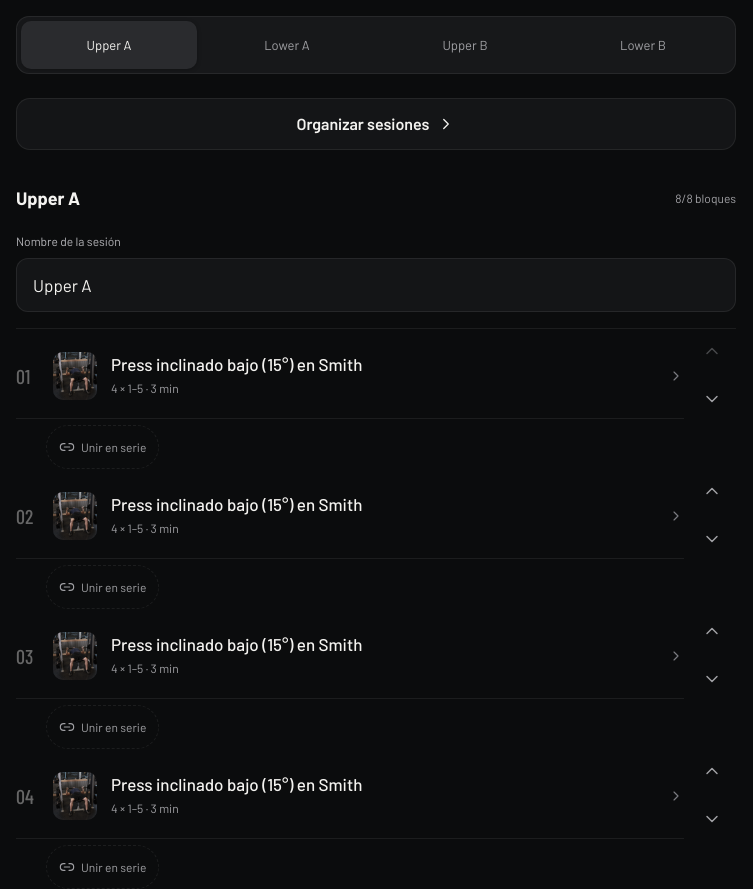
bi-series y tri-series › el contador cuenta bloques y ejercicios; «Añadir» se bloquea a 8 bloques
Expected: the text "8/8 bloques" is shown, top-left (675, 191), bottom-right (736, 205)
Click the 1st button "Unir en serie" at (103, 447), box top-left (46, 425), bottom-right (159, 469)
(page scrolled)
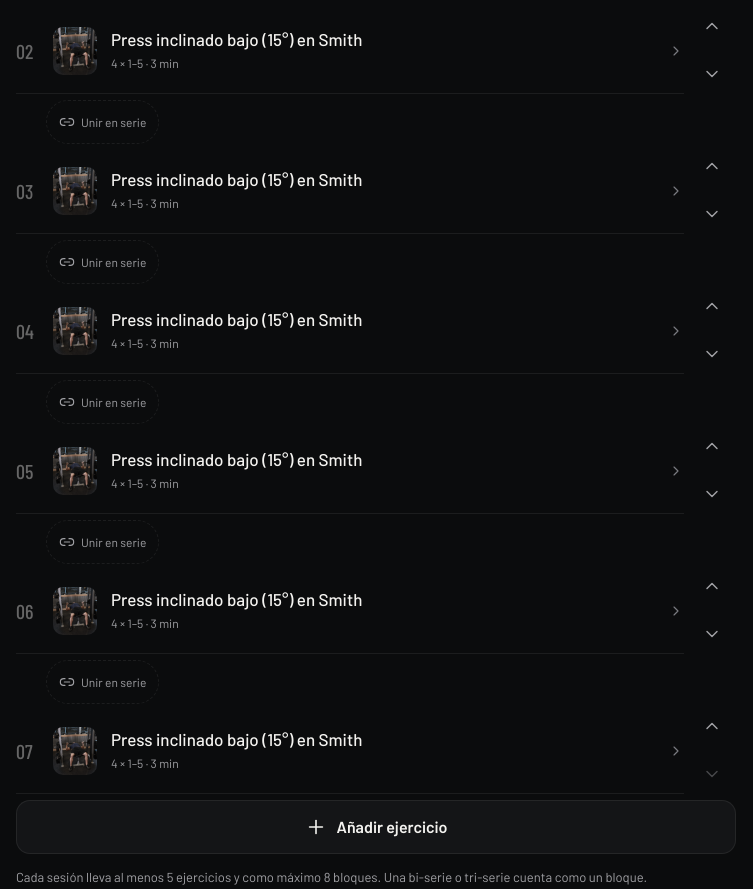
Now the button "Añadir ejercicio" is enabled, box top-left (16, 800), bottom-right (736, 854)
